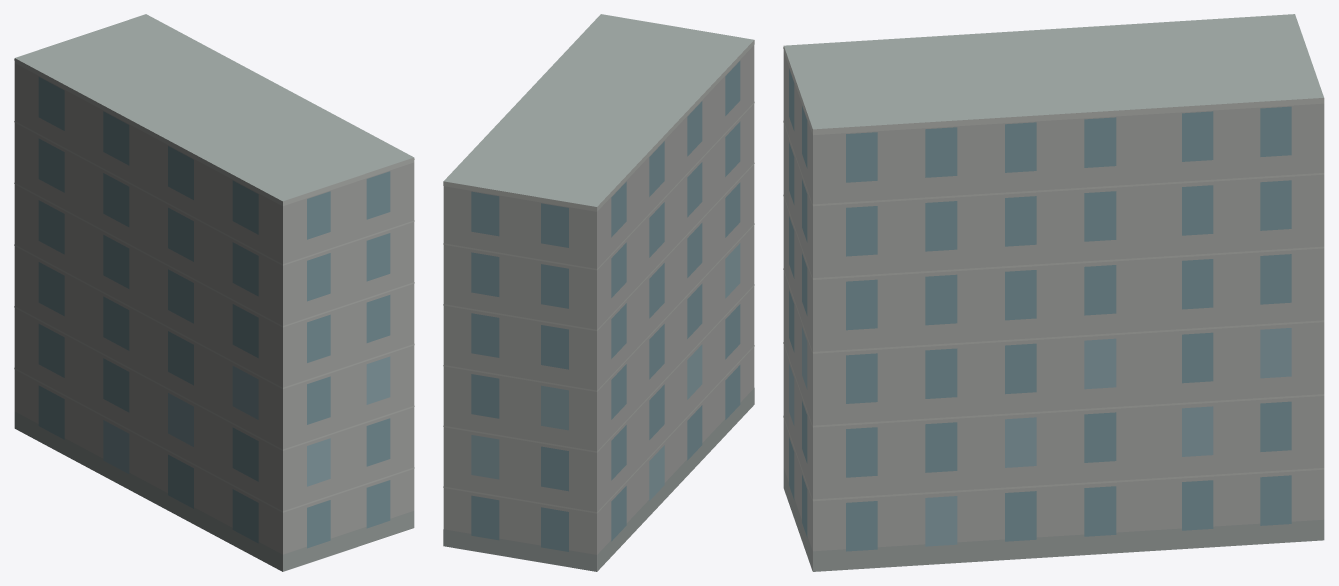
File: survey-upis-32639069.glb
3 renders of one model, left to right at view 1: azimuth 30°, elevation 25°; view 2: azimuth 150°, elevation 25°; view 3: azimuth 270°, elevation 25°, orthographic. The views are drawn at different scales.
Visible parts, largest first — view 1: survey-upis-32639069.tmp; view 2: survey-upis-32639069.tmp; view 3: survey-upis-32639069.tmp.
Boxes of the visible parts, box(x1,y1,x2,y2) form: survey-upis-32639069.tmp: box(14, 14, 414, 571); survey-upis-32639069.tmp: box(443, 14, 754, 571); survey-upis-32639069.tmp: box(783, 14, 1324, 571).
Bounding box in the file's own units: 10.37 × 18.5 × 20.5.
